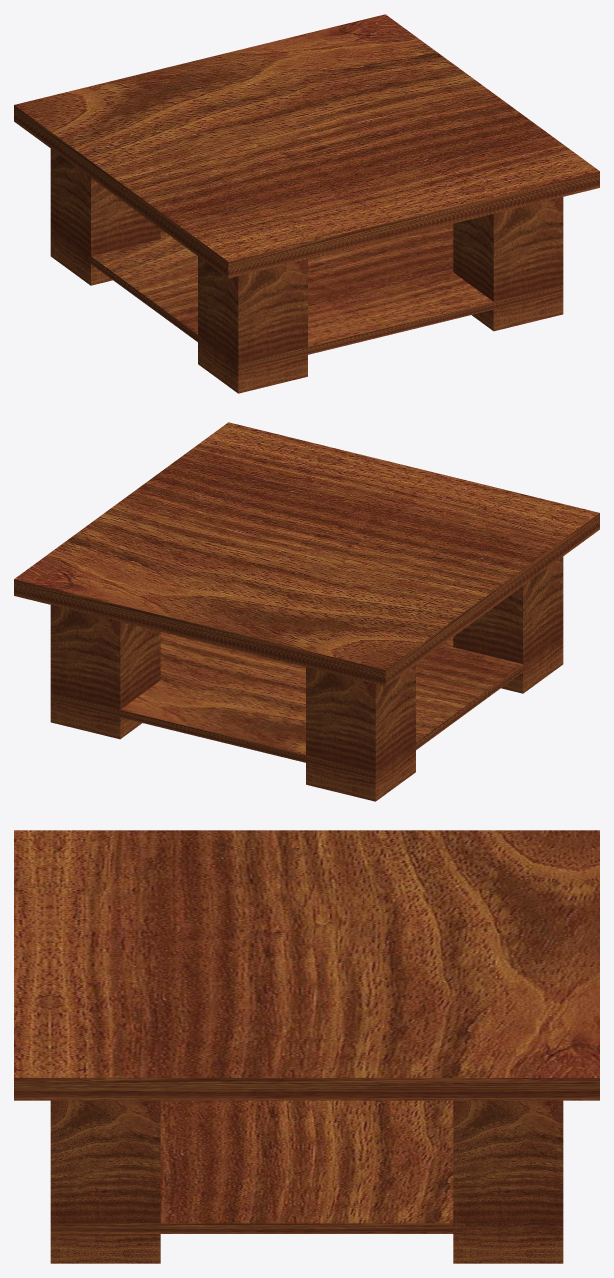
Rendered from Table 1.FBX.
3 views of the same model, one above another, from view 1: azimuth 30°, elevation 25°; view 2: azimuth 150°, elevation 25°; view 3: azimuth 270°, elevation 25° (orthographic). The views are drawn at different scales.
Parts seen in each view (by area): view 1: Table1; view 2: Table1; view 3: Table1.
Boxes of the visible parts, x1=… form: Table1: x1=14, y1=14, x2=599, y2=393; Table1: x1=14, y1=422, x2=599, y2=801; Table1: x1=14, y1=830, x2=599, y2=1263.
Bounding box in the file's own units: 110 × 41.73 × 110.
1 material, 1 textured.
